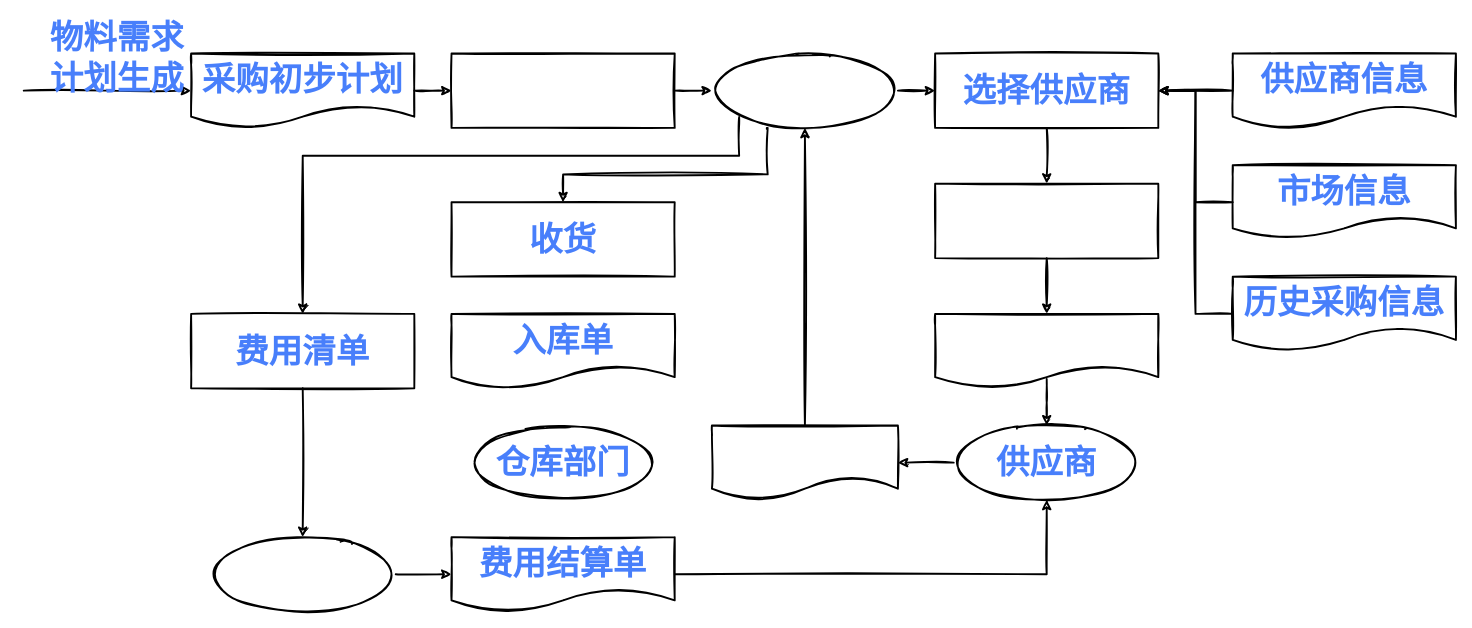
Some shapes in this 1472 by 628 pixel diagram are drawn without their labels. Here are the shapes that lost their labels. From the top down, the centre of each, then its label:
the point at 562,90: 采购审批
the point at 804,90: 采购部门
the point at 1046,220: 下达采购订单
the point at 1046,350: 采购订单
the point at 804,462: 供货单
the point at 302,574: 财务部门
